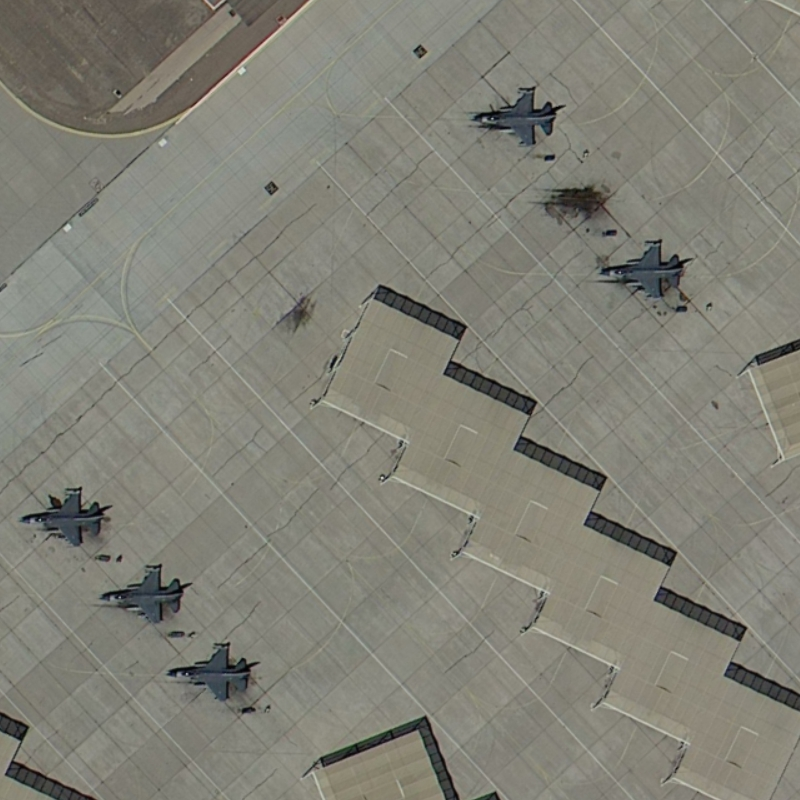A5: (458, 84, 562, 151), (587, 236, 687, 304), (90, 560, 189, 628), (11, 483, 110, 548), (162, 639, 257, 705)
